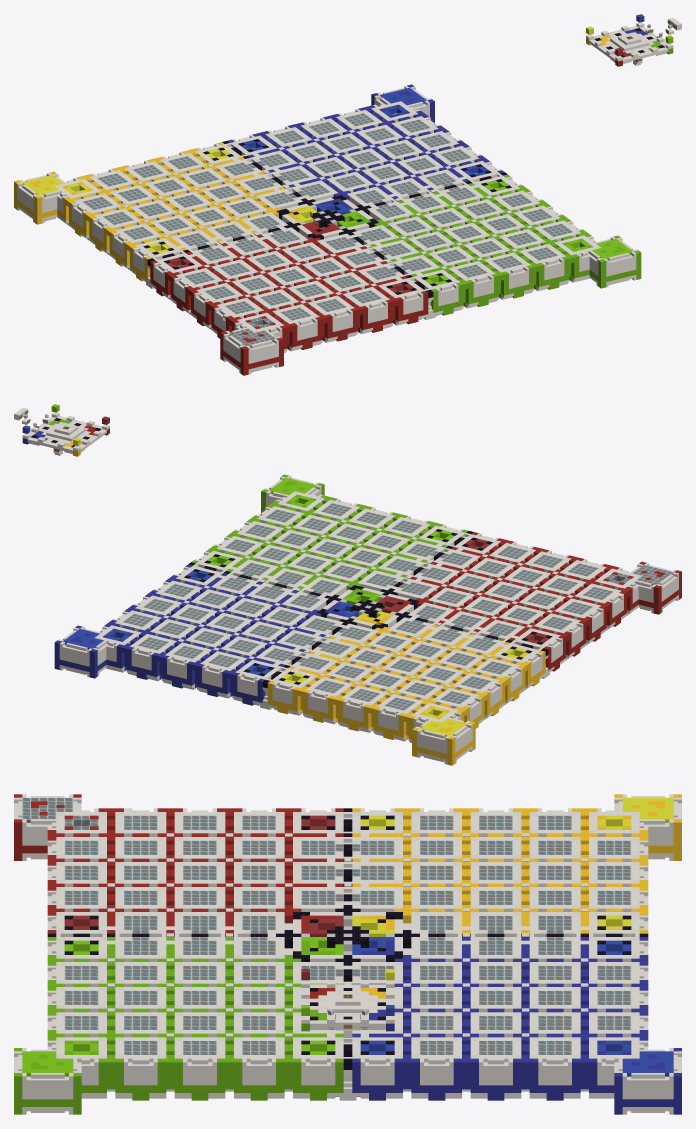
The model's file is minecraft.obj.
The picture shows the model from 3 angles, top to bottom: view 1: azimuth 30°, elevation 25°; view 2: azimuth 150°, elevation 25°; view 3: azimuth 270°, elevation 25°; orthographic projection. The views are drawn at different scales.
Bounding box in the file's own units: 109 × 26 × 79.
